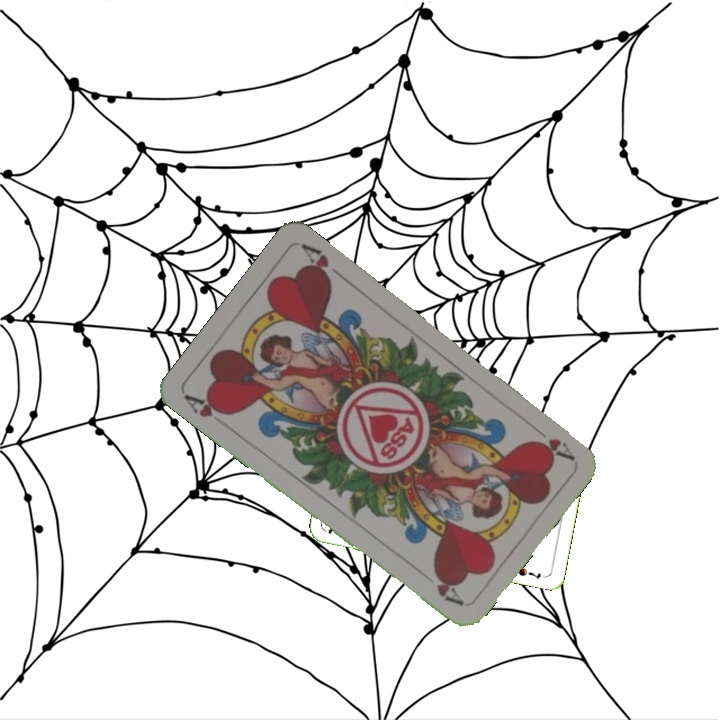HA: (180, 390, 235, 431), (527, 419, 576, 462)
